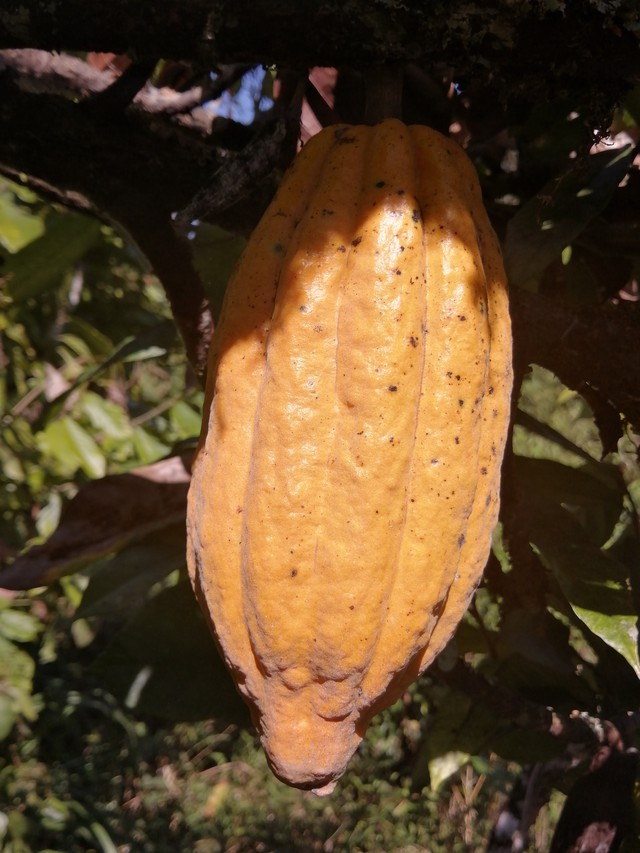Health: (156, 107, 540, 798)
